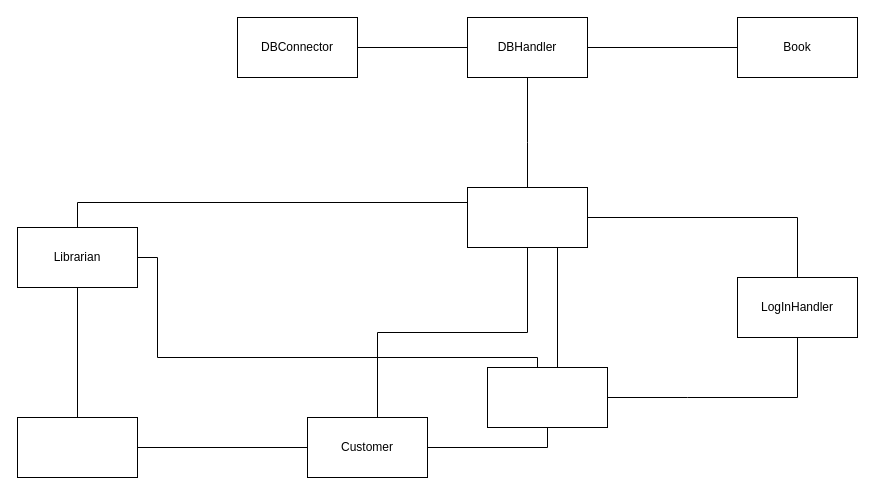
Some shapes in this 875 by 495 pixel diagram are drawn without their labels. The shapes that lost their labels are listed below. From the top down, each one's centre as x and y in pixels, then its label:
the point at 527,217: DBCommand
the point at 547,397: User
the point at 77,447: TUI
